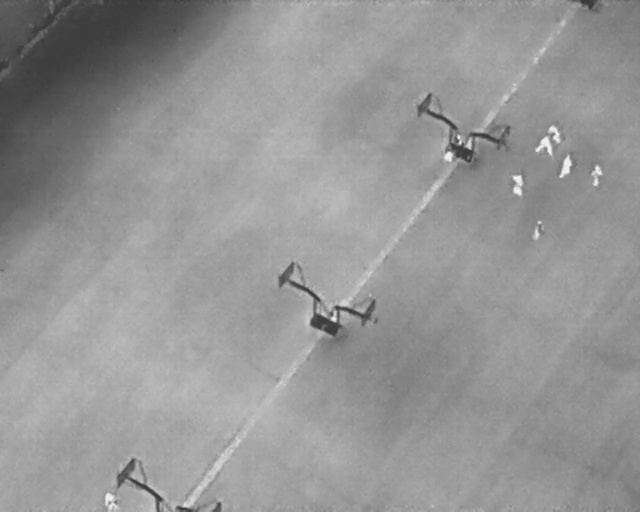Person: (555, 151, 576, 183), (533, 134, 554, 158), (545, 121, 565, 145), (509, 172, 524, 198), (590, 162, 603, 187), (103, 490, 117, 511), (532, 220, 543, 242), (455, 134, 465, 147), (445, 151, 453, 161)
